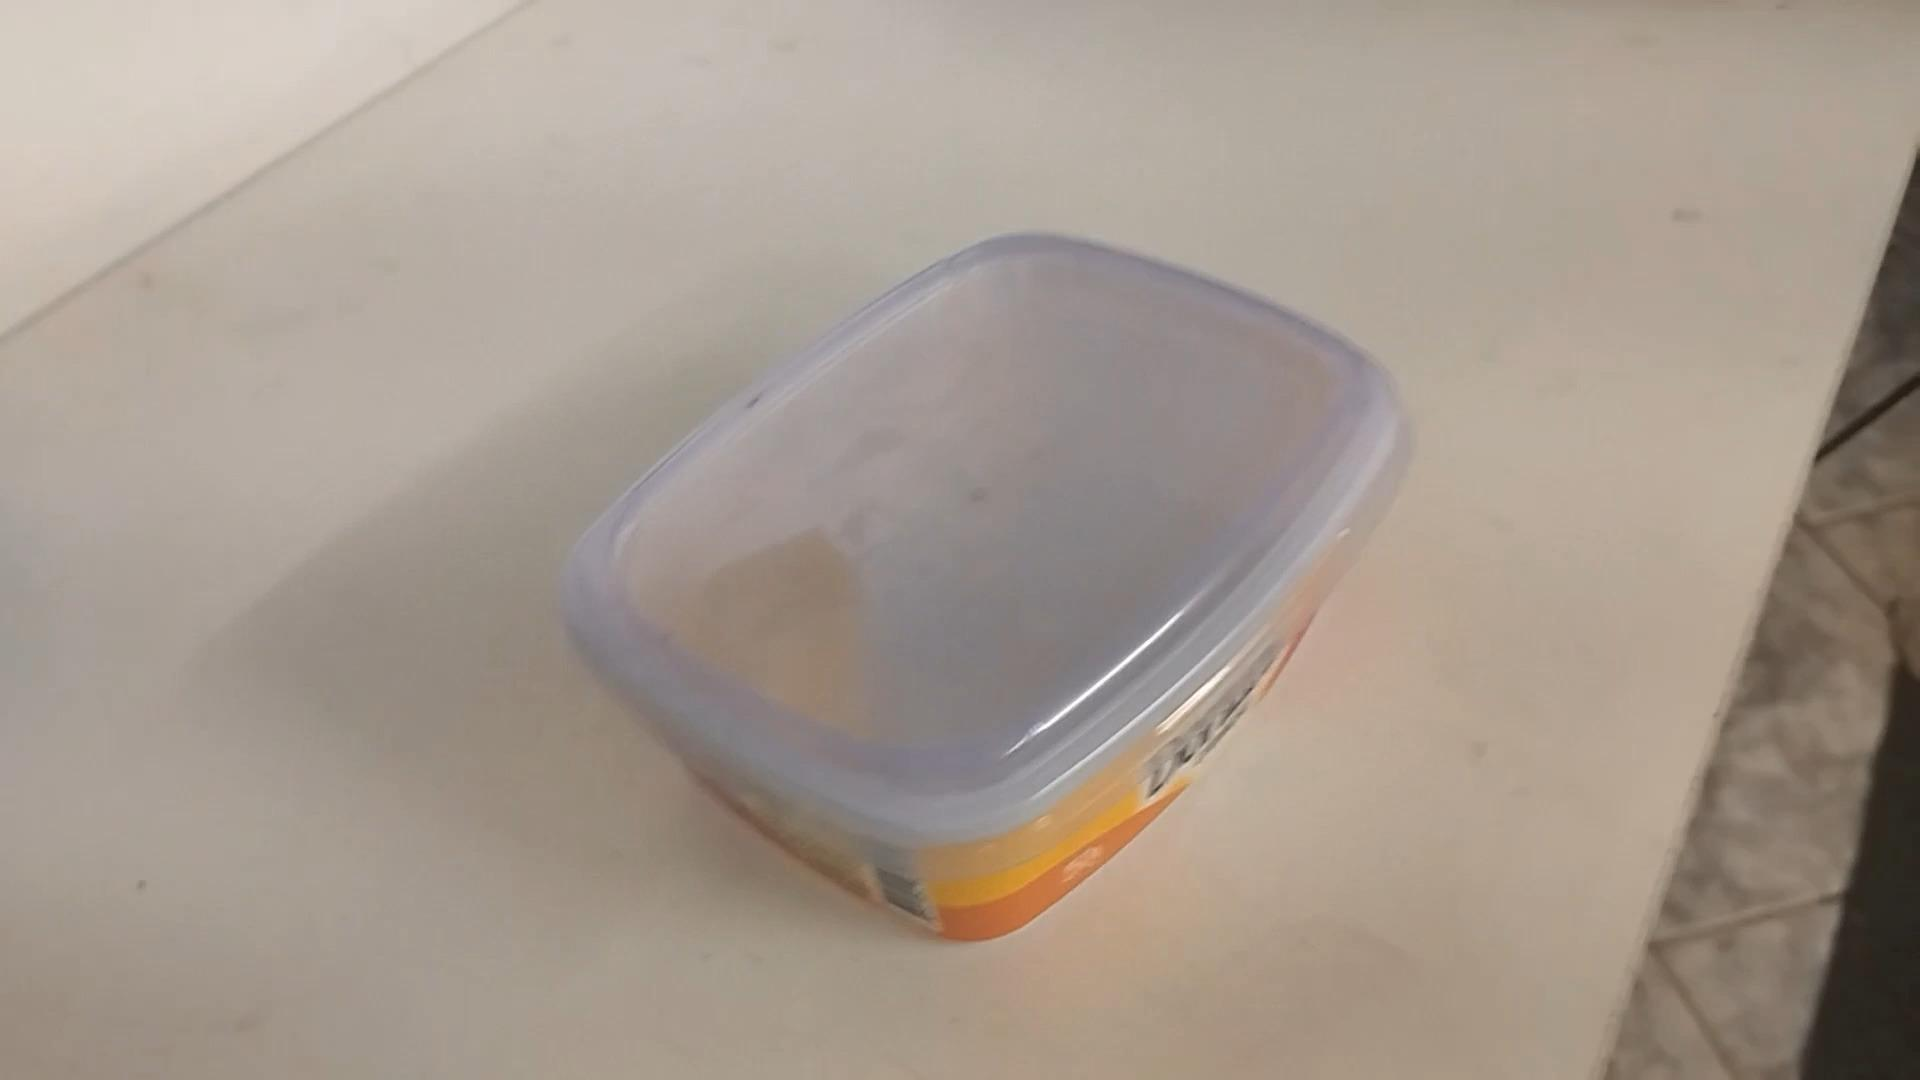butter: (545, 237, 1403, 948)
